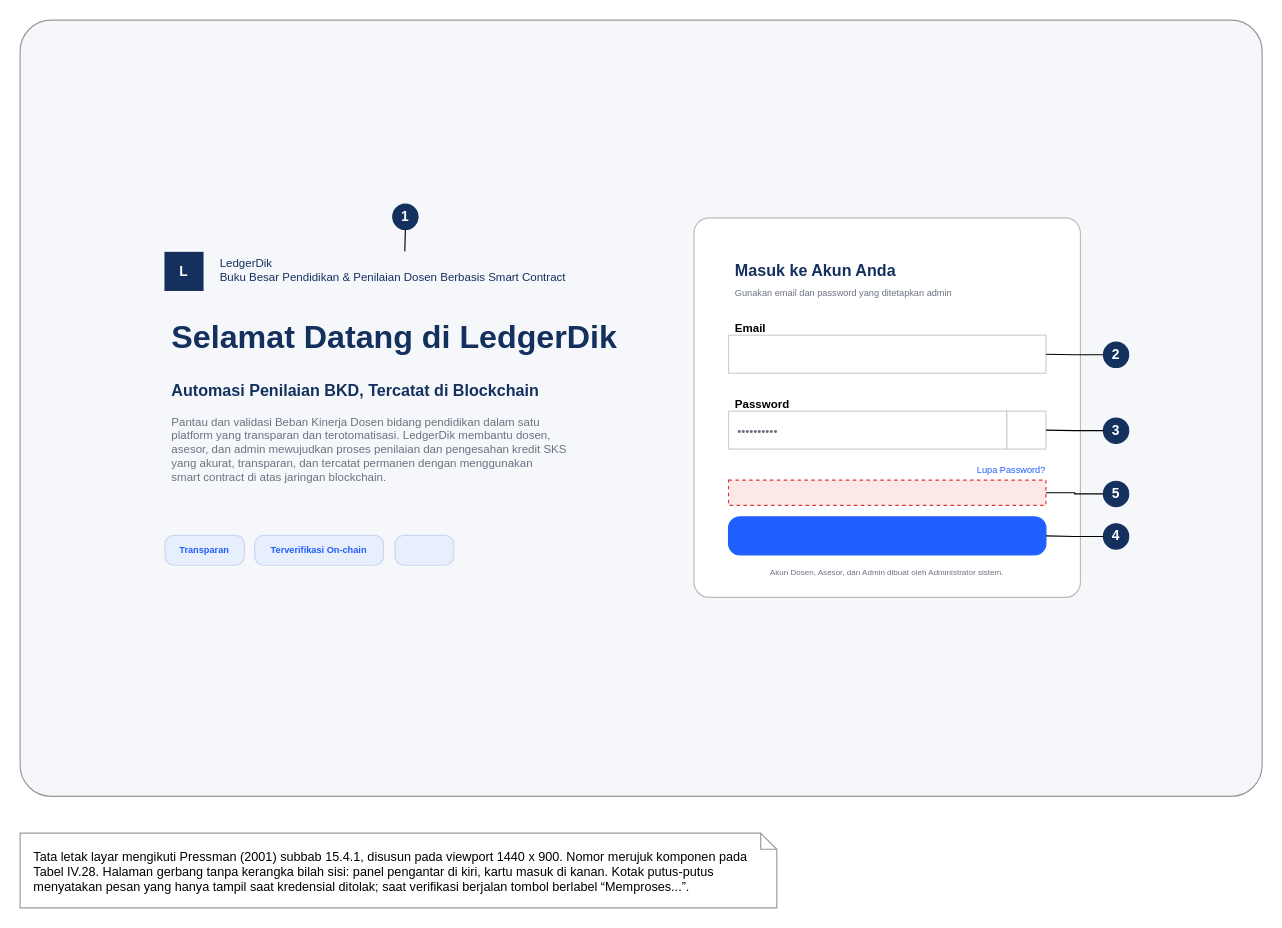
Some shapes in this 1282 by 928 pixel diagram are drawn without their labels. Here are the shapes that lost their labels. From the top down, the box of each, then its label:
(727, 334, 1046, 373): nama@polban.ac.id
(1006, 410, 1046, 449): lihat
(727, 479, 1046, 505): Email atau password salah, atau akun dinonaktifkan.
(394, 534, 454, 565): Akurat
(727, 516, 1046, 555): Masuk
